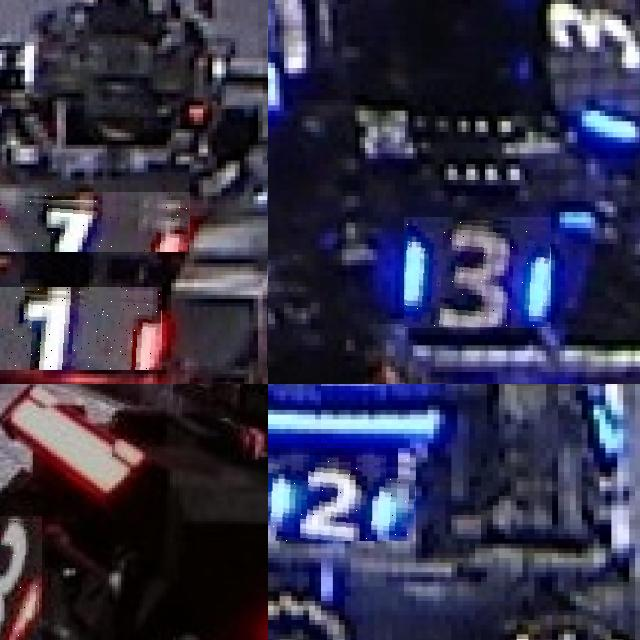B2: (268, 455, 416, 541)
B3: (404, 218, 551, 330)
R1: (0, 287, 162, 370), (0, 192, 189, 251)
R3: (0, 516, 42, 640)
